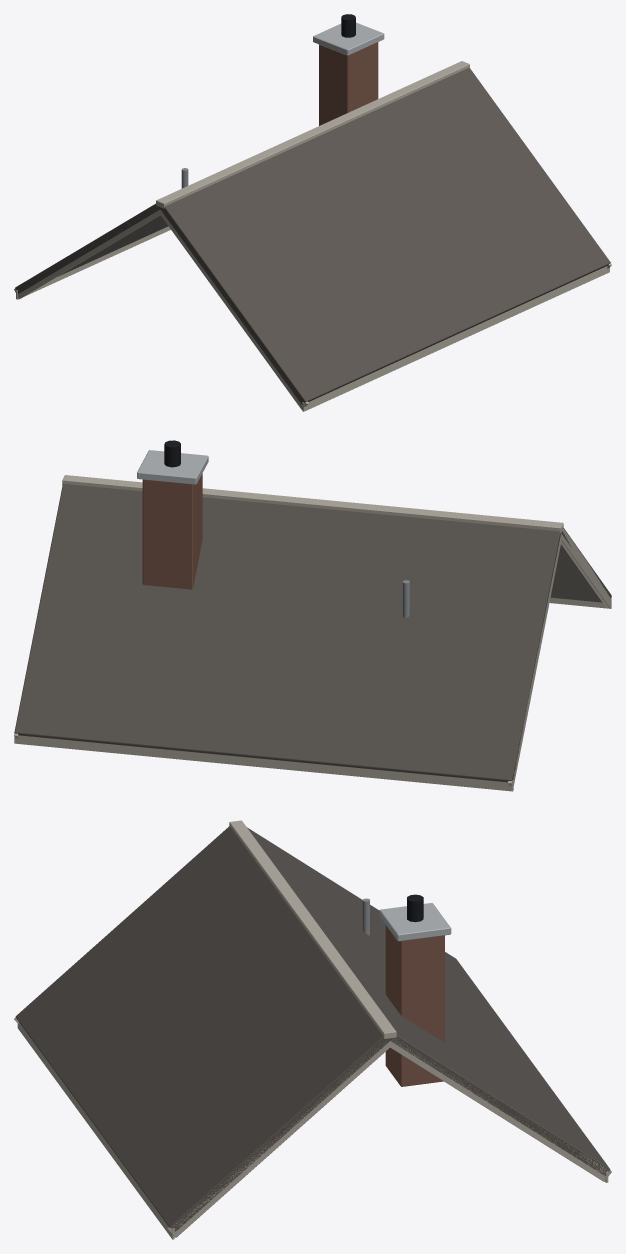
The model's file is house1_roof.glb.
3 renders of one model, top to bottom at view 1: azimuth 30°, elevation 25°; view 2: azimuth 150°, elevation 25°; view 3: azimuth 270°, elevation 25°, orthographic. The views are drawn at different scales.
Visible parts, largest first — view 1: house1_roof; view 2: house1_roof; view 3: house1_roof.
Part boxes in pixels (x1=…): house1_roof: x1=14, y1=14, x2=611, y2=411; house1_roof: x1=14, y1=440, x2=611, y2=791; house1_roof: x1=14, y1=820, x2=611, y2=1239.
Bounding box in the file's own units: 9.62 × 4.21 × 9.04.
